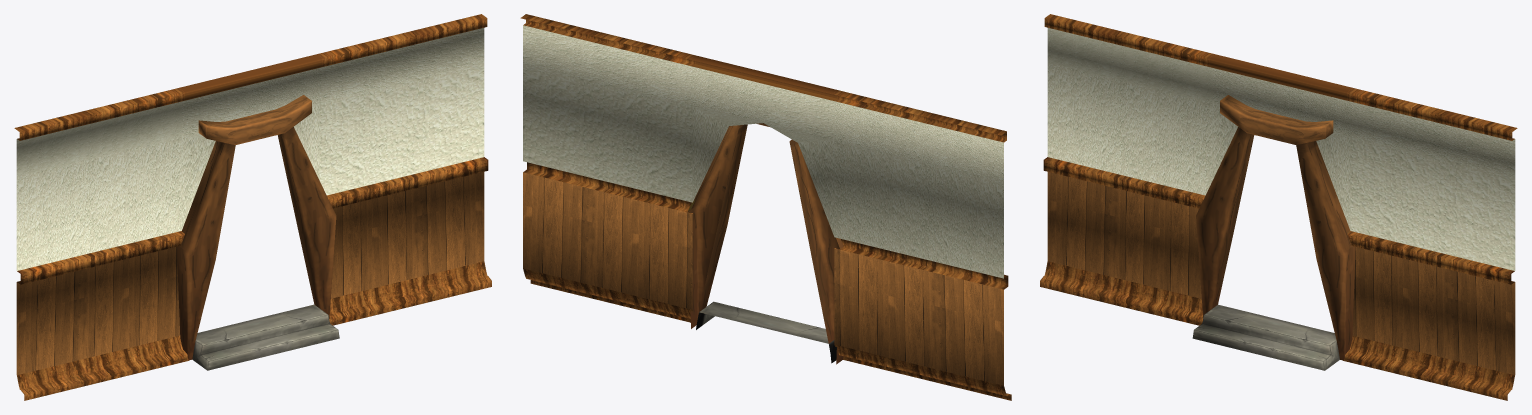
The model's file is portaemuro1.fbx.
3 views of the same model, side by side, from view 1: azimuth 30°, elevation 25°; view 2: azimuth 150°, elevation 25°; view 3: azimuth 330°, elevation 25° (orthographic). The views are drawn at different scales.
Visible parts, largest first — view 1: Cube.000; view 2: Cube.000; view 3: Cube.000.
Boxes of the visible parts, x1,y1,x2,y2 form: Cube.000: (14, 14, 491, 400); Cube.000: (520, 14, 1011, 400); Cube.000: (1040, 14, 1517, 400).
Bounding box in the file's own units: 789 × 428 × 74.89.
